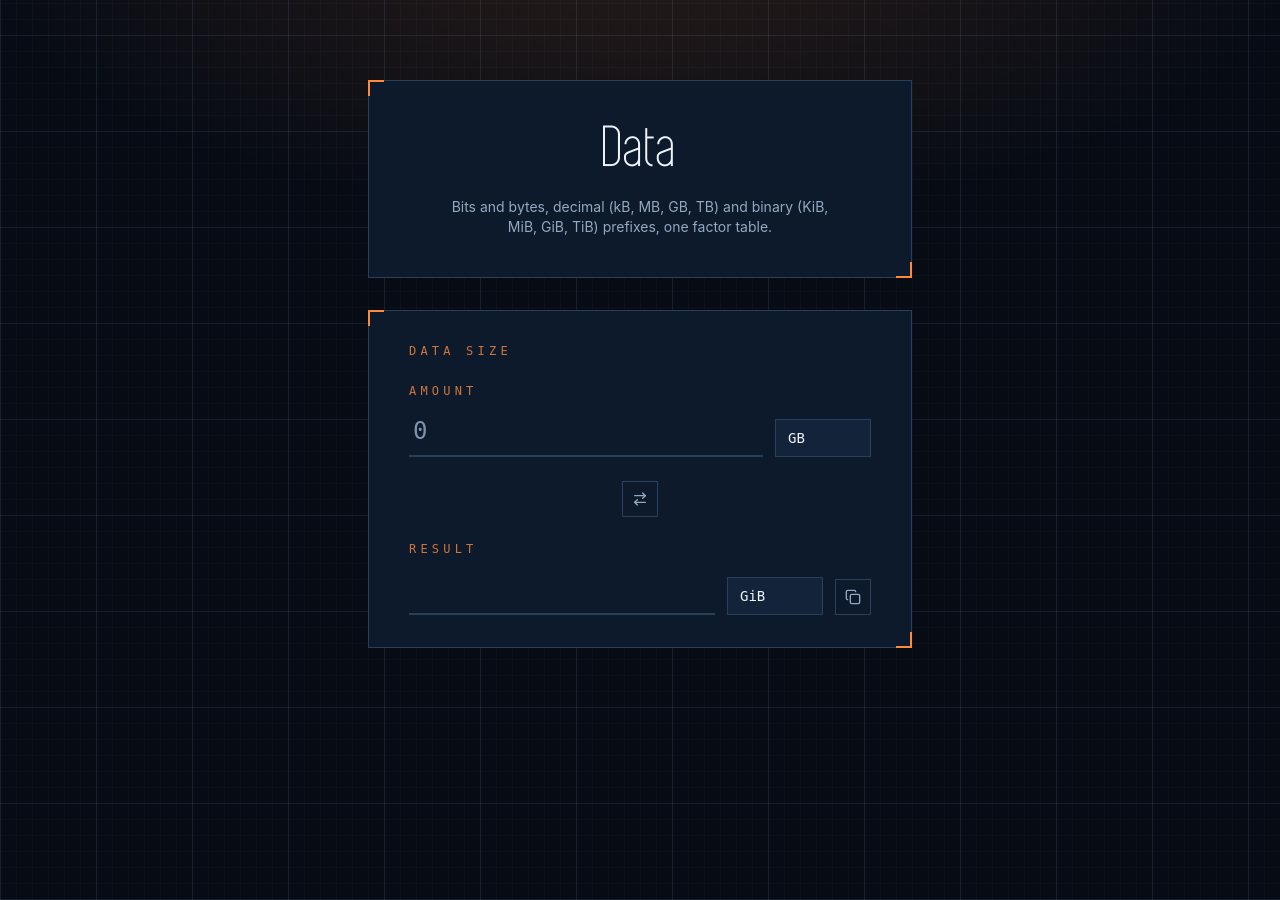
DataSizeView › converts an entered amount using the default units (GB to GiB)
Type "10" into the number field with id "data-value". click: (586, 432)
box: top-left (409, 407), bottom-right (763, 457)
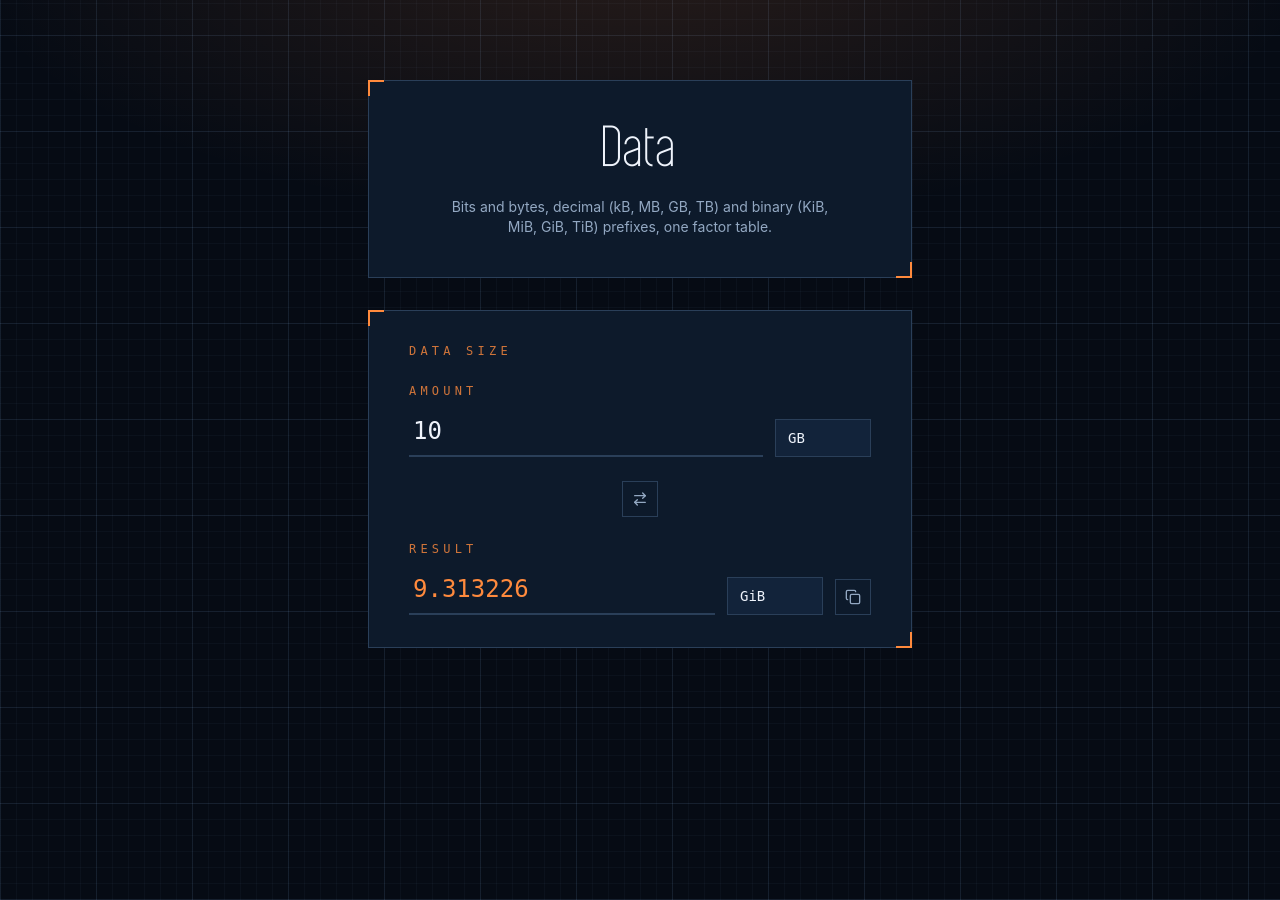
Check: the field with id "data-result" holds "9.313226", box top-left (409, 565), bottom-right (715, 615)
